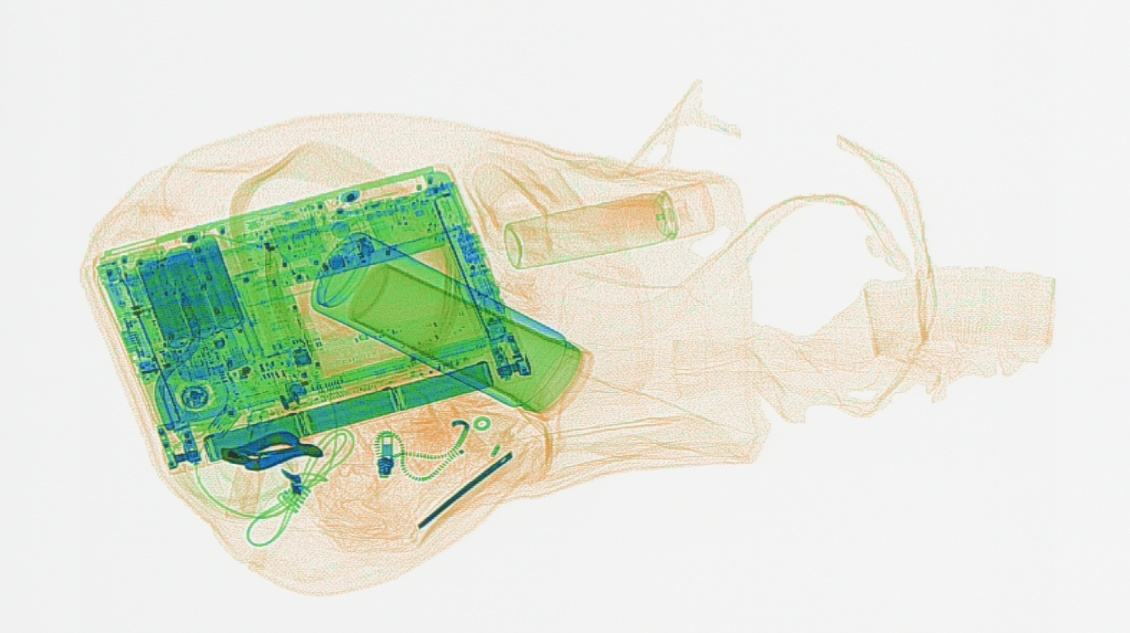powerbank: (125, 219, 263, 383)
pressure: (501, 176, 716, 271)
